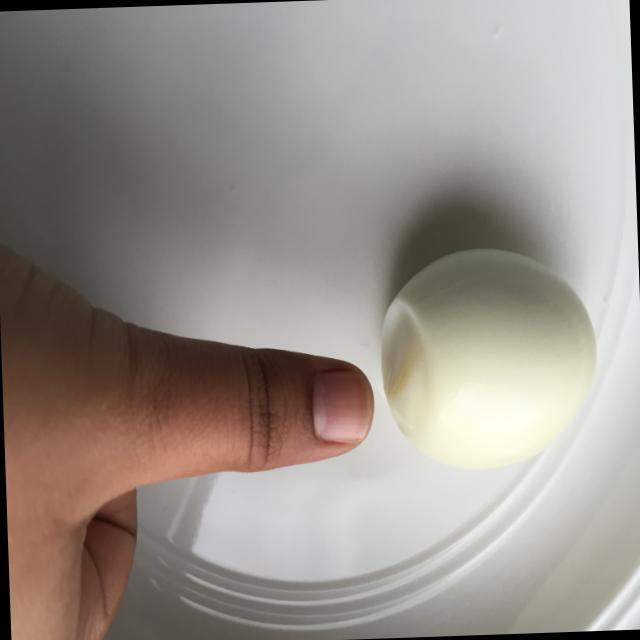Egg: (372, 232, 610, 480)
Finger: (204, 342, 380, 482)
